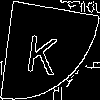K: (24, 25, 61, 76)
